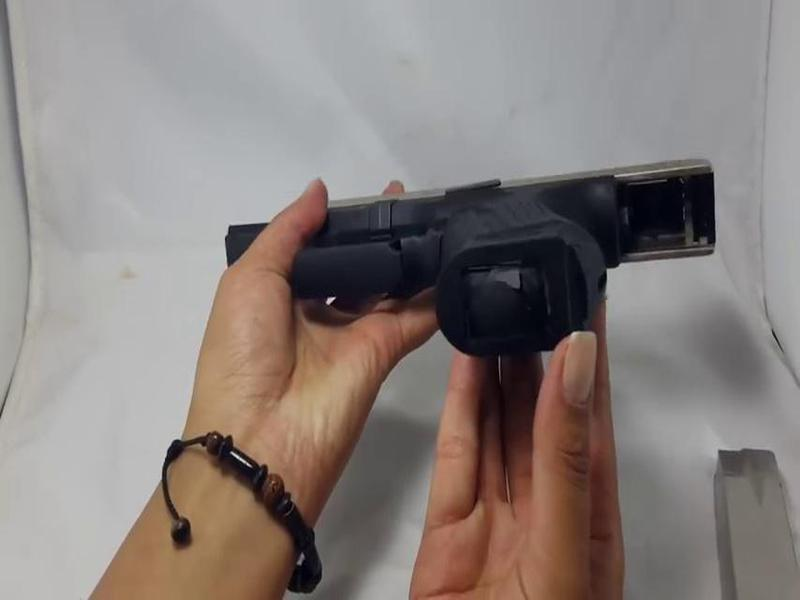Pistola: (200, 155, 738, 370)
